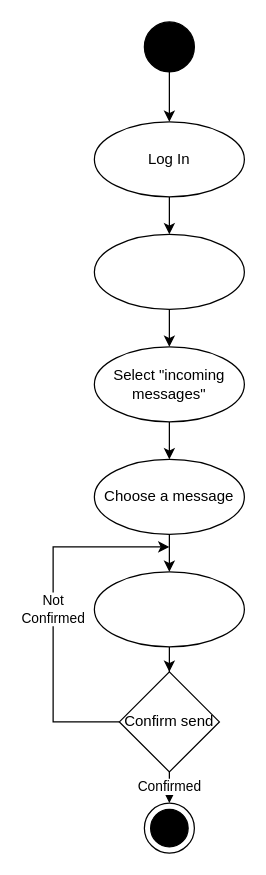
The diagram is 266 pixels wide and 875 high, and some of its shapes have lost their labels. Each missing label, with the centre of its shape:
"Reply to the message" goes at (x=168, y=609).
"View Profile" goes at (x=168, y=271).
